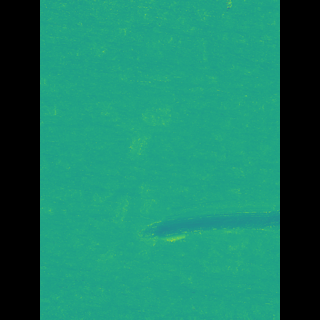Loch: (137, 190, 250, 246)
